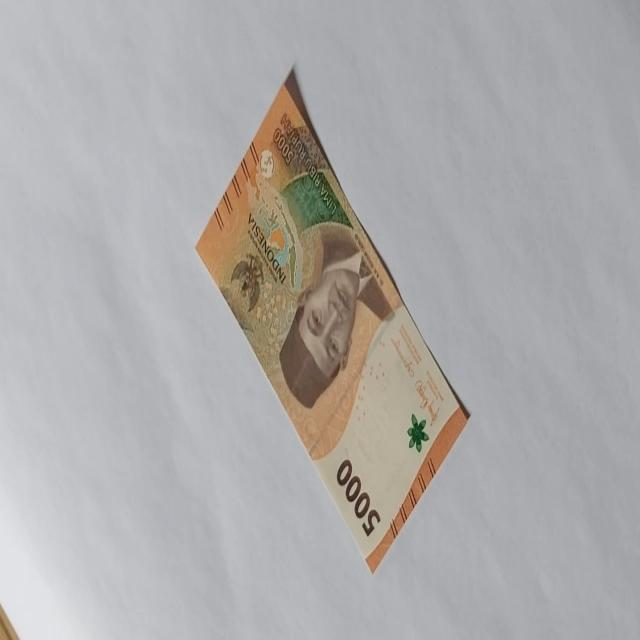lima ribu rupiah: (194, 64, 471, 574)
